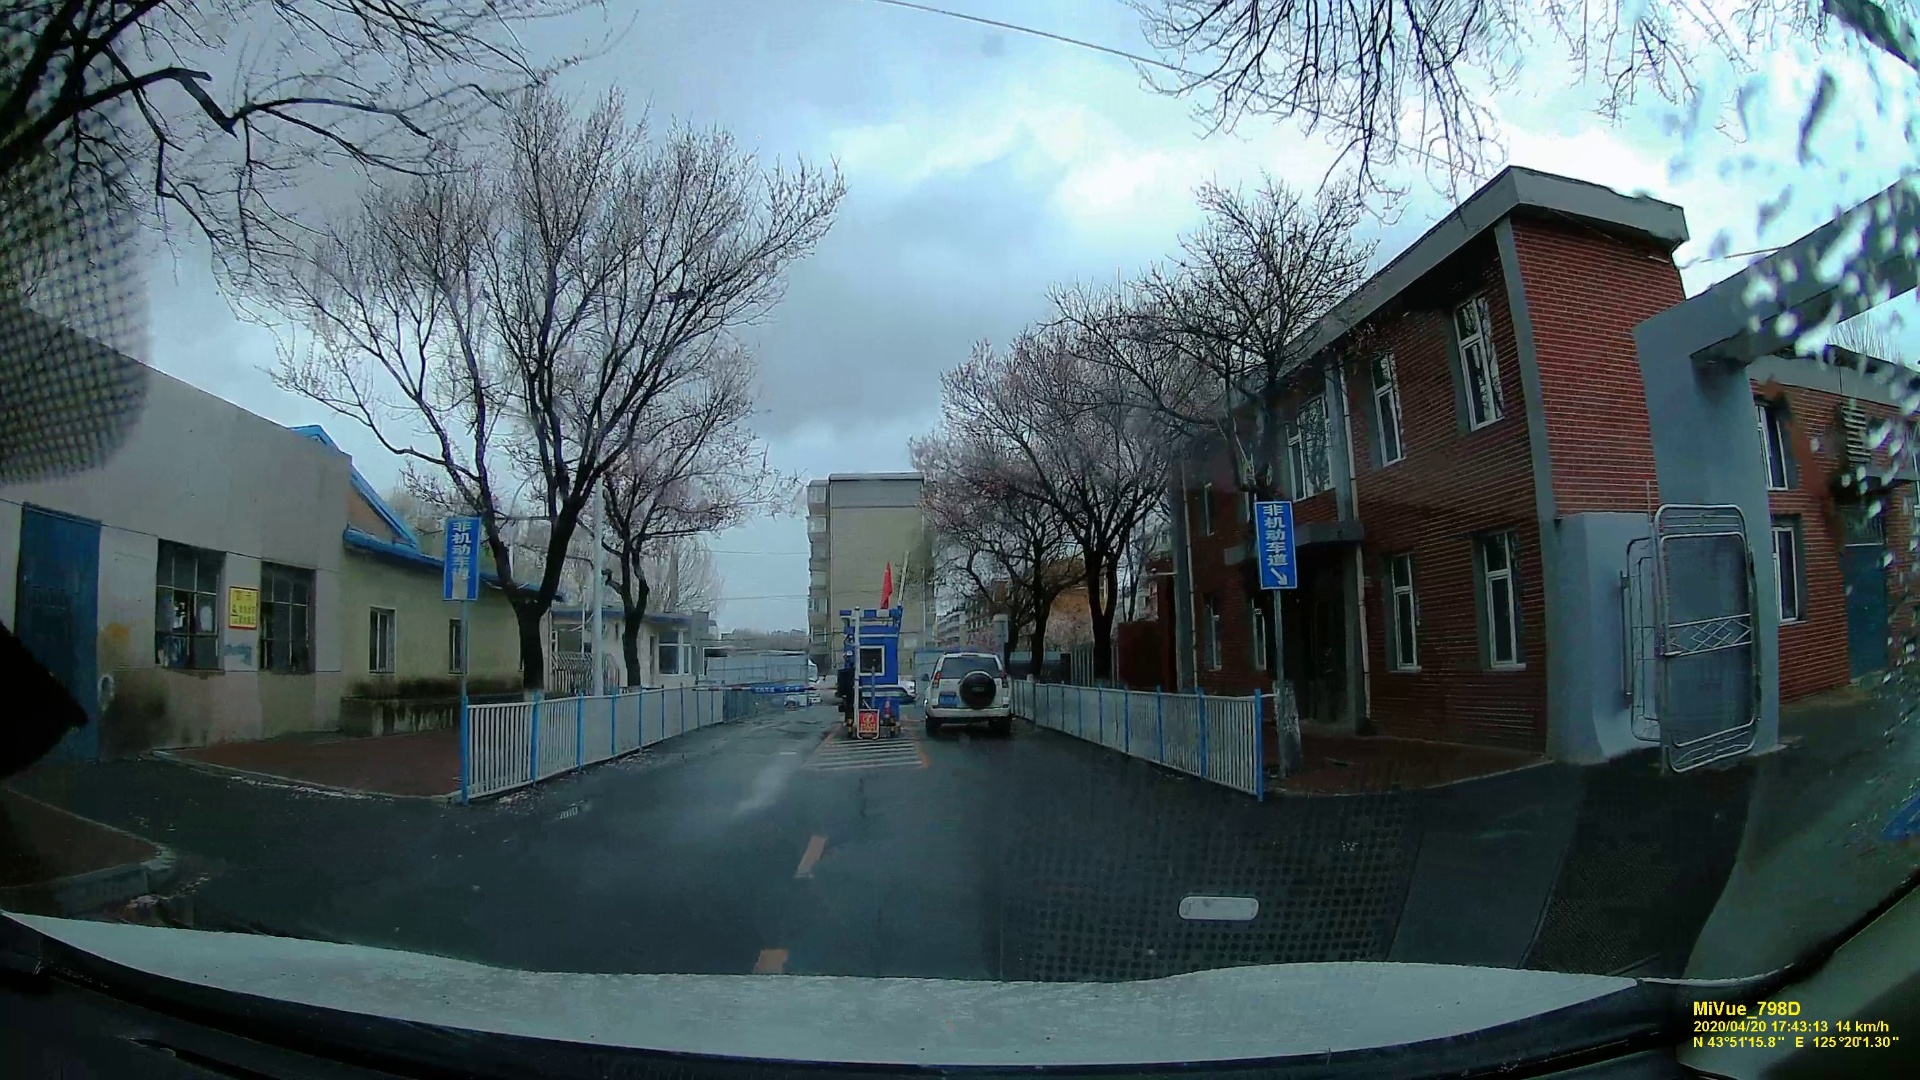traffic_sign: (1253, 498, 1305, 589), (434, 513, 480, 605), (855, 709, 880, 738)
vehicle: (918, 650, 1014, 737)
